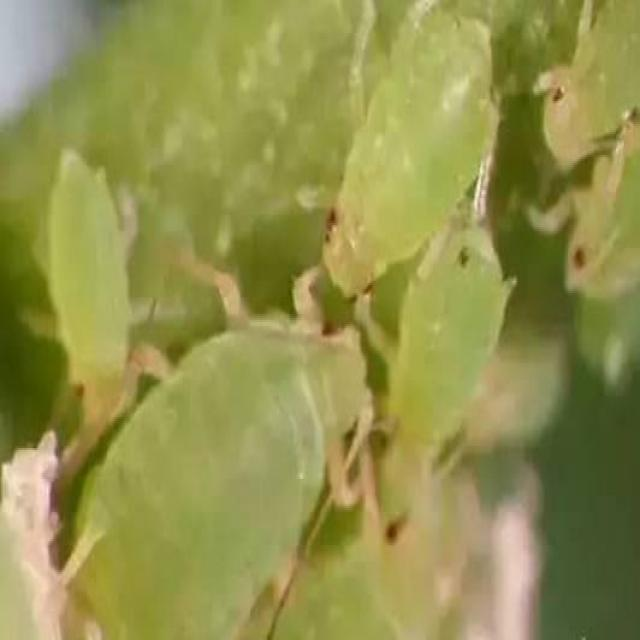Aphids: (23, 297, 382, 640), (310, 12, 500, 289), (23, 120, 161, 427), (401, 233, 502, 464), (539, 0, 636, 182)
